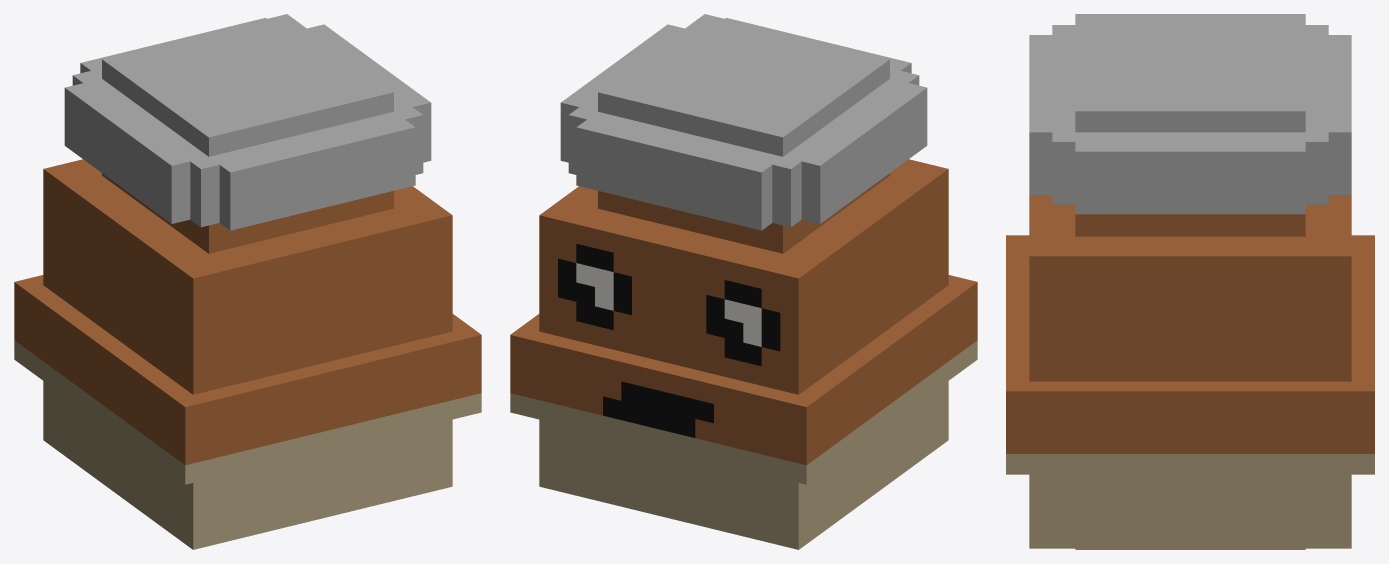
Rendered from Npc2.glb.
The picture shows the model from 3 angles, left to right: view 1: azimuth 30°, elevation 25°; view 2: azimuth 150°, elevation 25°; view 3: azimuth 270°, elevation 25°; orthographic projection. The views are drawn at different scales.
Visible parts, largest first — view 1: Untitled; view 2: Untitled; view 3: Untitled.
Part boxes in pixels (x1,y1,x2,y2): Untitled: (14,14,481,549); Untitled: (510,14,977,549); Untitled: (1006,14,1374,549).
Size of the model in its own units: 1.6 by 2.1 by 1.6.
1 material, 1 textured.
